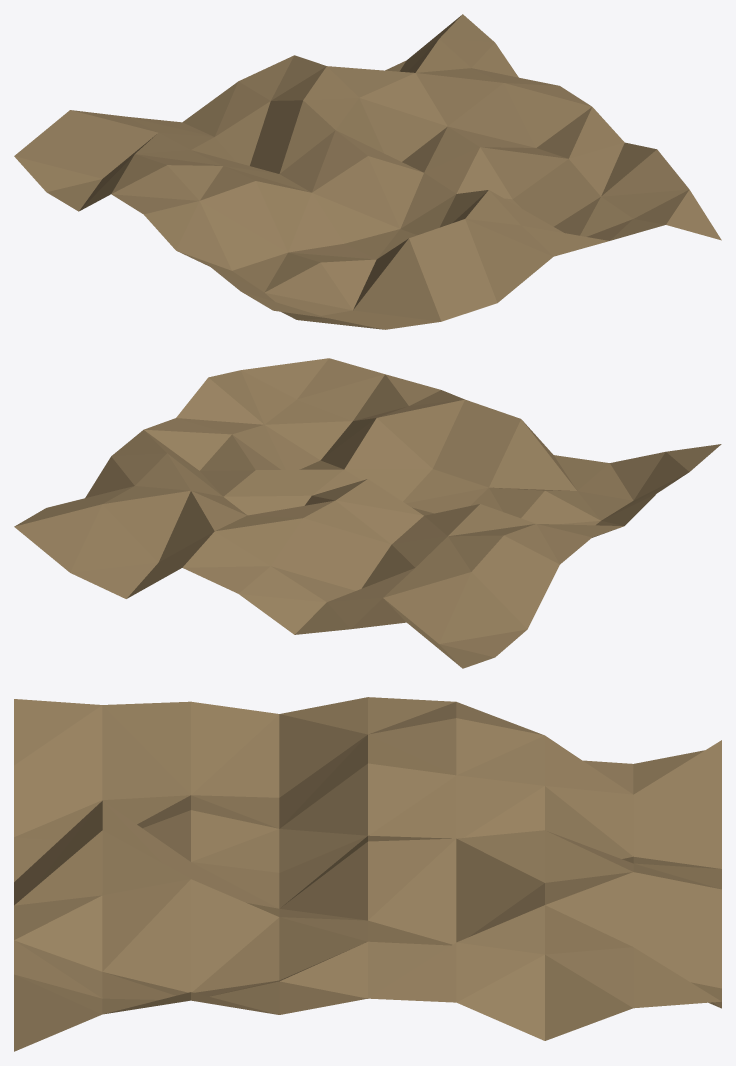
Rendered from Rooftop.fbx.
The picture shows the model from 3 angles, top to bottom: view 1: azimuth 30°, elevation 25°; view 2: azimuth 150°, elevation 25°; view 3: azimuth 270°, elevation 25°; orthographic projection. The views are drawn at different scales.
Parts seen in each view (by area): view 1: Plane; view 2: Plane; view 3: Plane.
Boxes of the visible parts, bbox=[...] form: Plane: bbox=[14, 14, 721, 329]; Plane: bbox=[14, 358, 721, 668]; Plane: bbox=[14, 697, 721, 1051].
Size of the model in its own units: 1113 by 155 by 1113.
